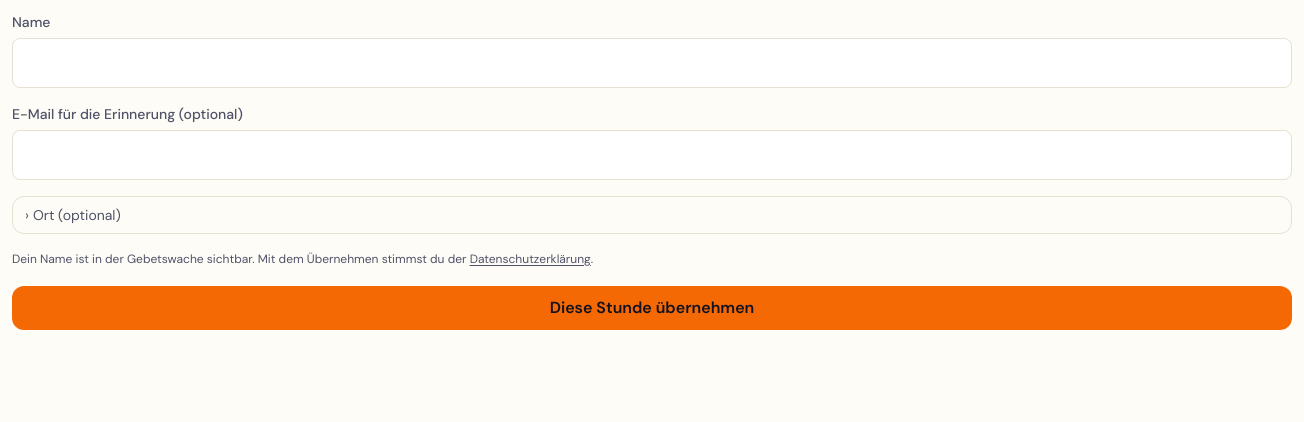
Test: GuestBookingForm — Einladungs-Moment nach Buchung (Backlog 4) › Erfolgs-Screen zeigt Einladung + Share-Zeile (WhatsApp/Telegram/Signal) mit Wachen-URL
The width and height of the screenshot is (1304, 422).
Type "Maria" into the field labelled "Name" at point(652, 63), box [12, 38, 1292, 88]
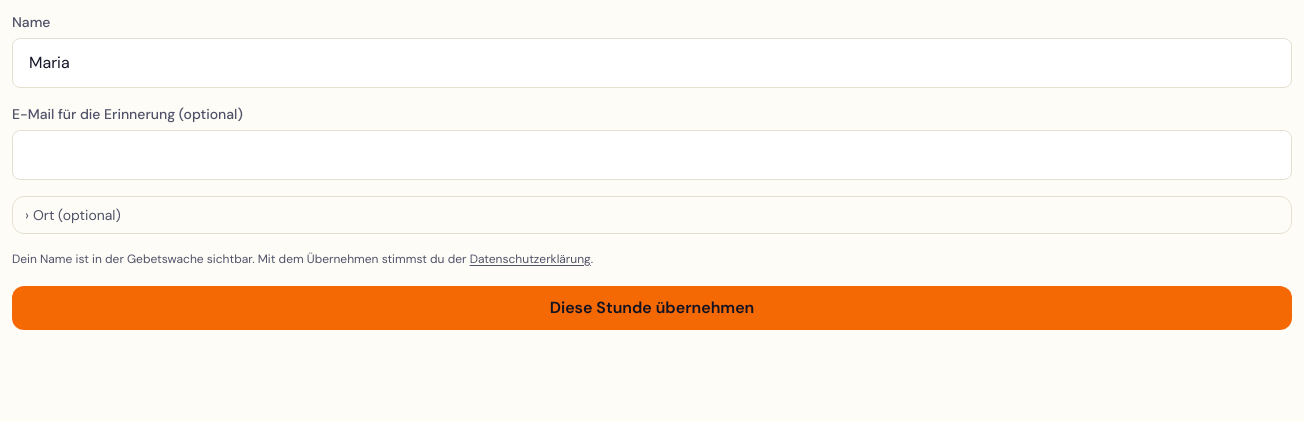
Click the button "Diese Stunde übernehmen" at point(652, 308), box [12, 286, 1292, 330]
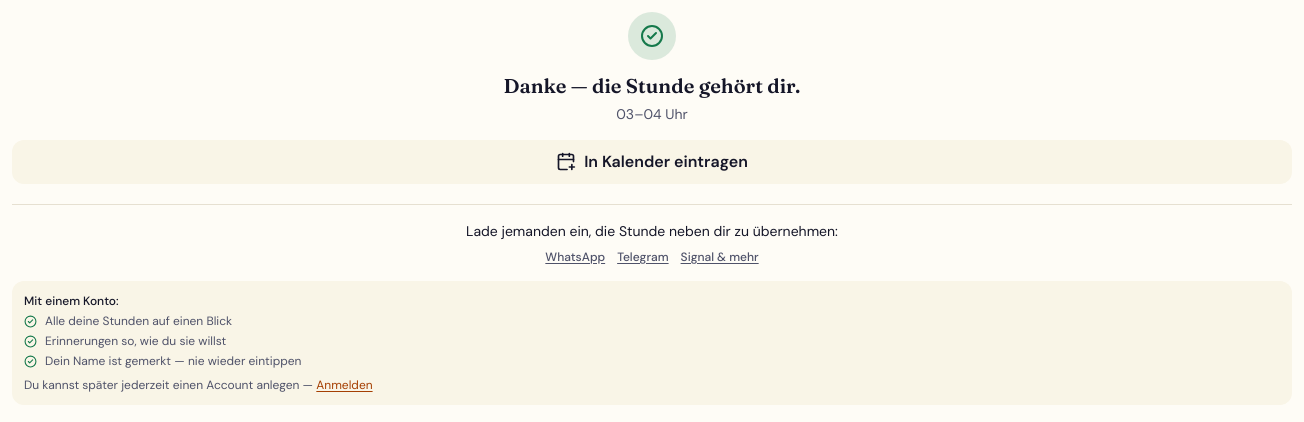
Check: the text "Danke — die Stunde gehört dir." is shown, box [504, 73, 800, 98]
Check: the text "Lade jemanden ein, die Stunde neben dir zu übernehmen:" is shown, box [466, 222, 838, 240]
Check: the link "Telegram" is shown, box [617, 249, 669, 265]
